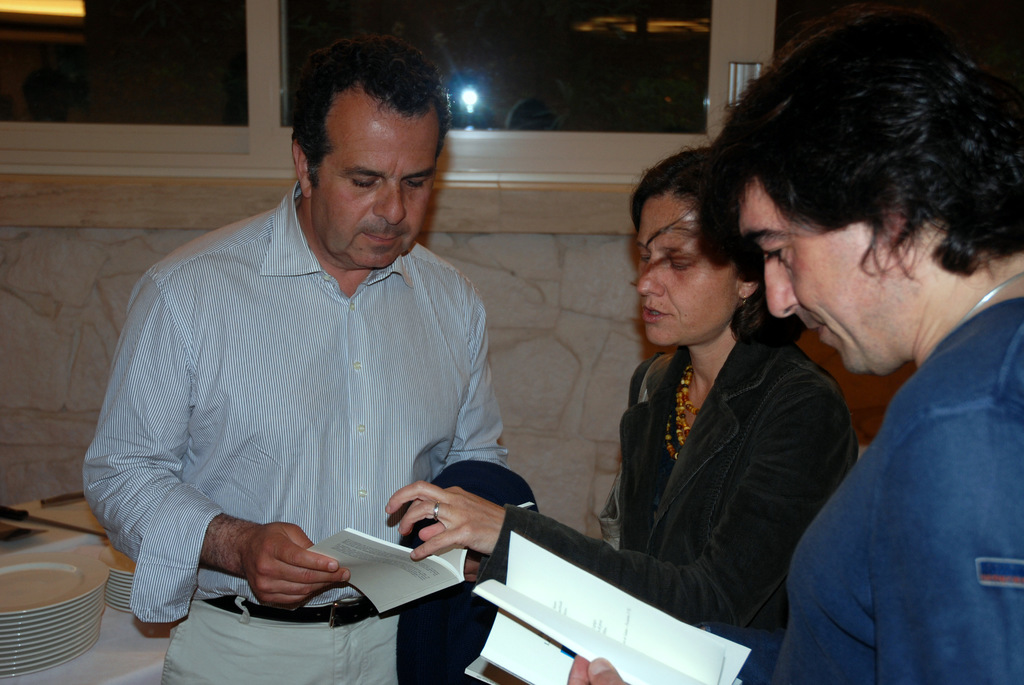face: (723, 135, 1004, 379), (289, 64, 460, 279), (626, 161, 744, 358)
